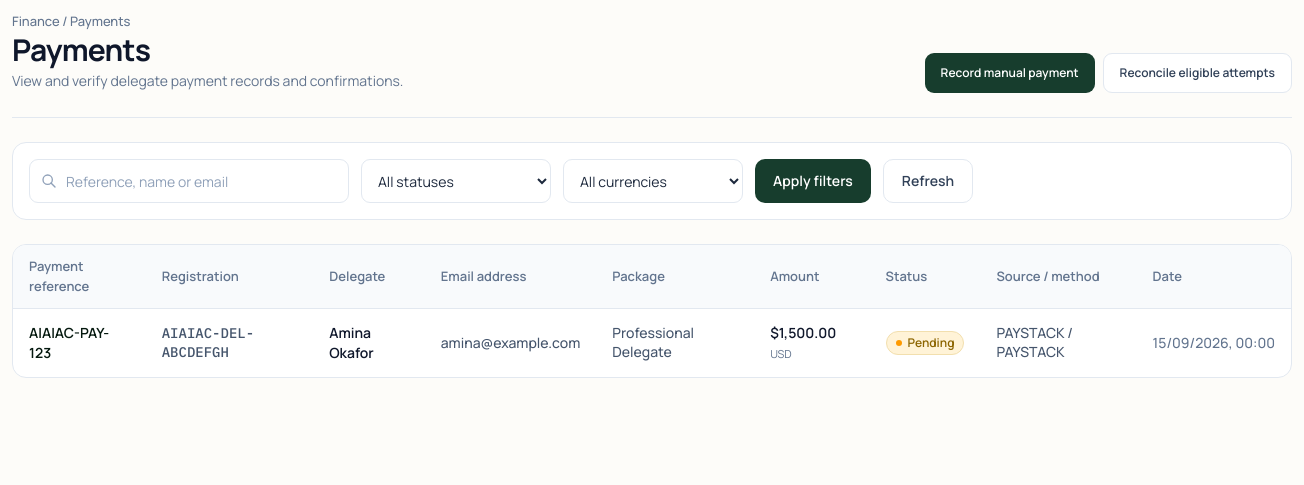
Test case: admin payment table updates › keeps rows on a server refresh failure but removes them when access is denied
The image size is (1304, 485).
Expected: the text "Amina Okafor" is shown, [329,323,374,362]
What coordinates should you click on to do the following:
click the button "Refresh"
I would click on:
 (928, 181)
Its box is [883,159,973,203].
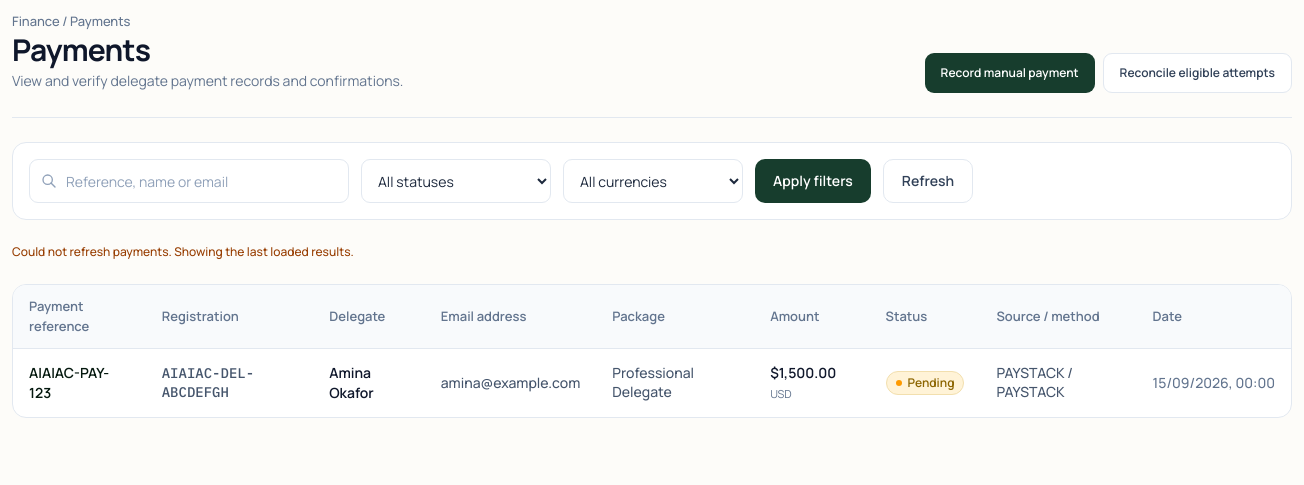
Expected: the text "Amina Okafor" is shown, [329,363,374,402]
Now the text "Could not refresh payments. Showing the last loaded results." is shown, box [12,243,354,260]
What coordinates should you click on to do the following:
click the button "Refresh"
I would click on:
 (928, 181)
Its box is [883,159,973,203].
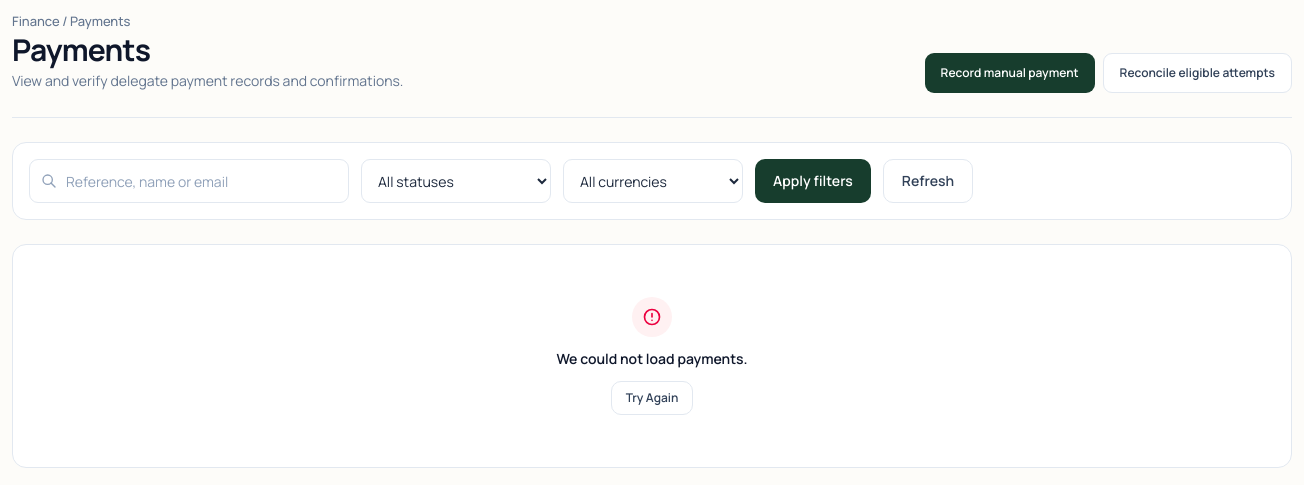
Now the text "We could not load payments." is shown, box [556,349,748,369]
Now the text "Amina Okafor" is gone
